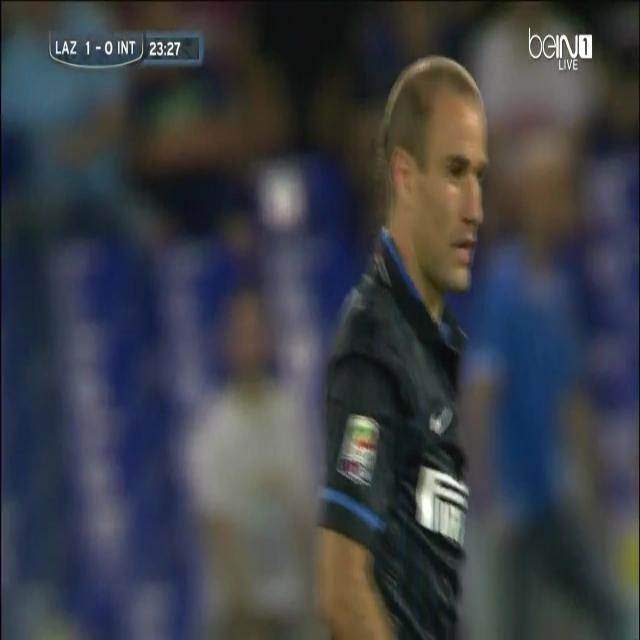Player: (315, 47, 486, 640)
